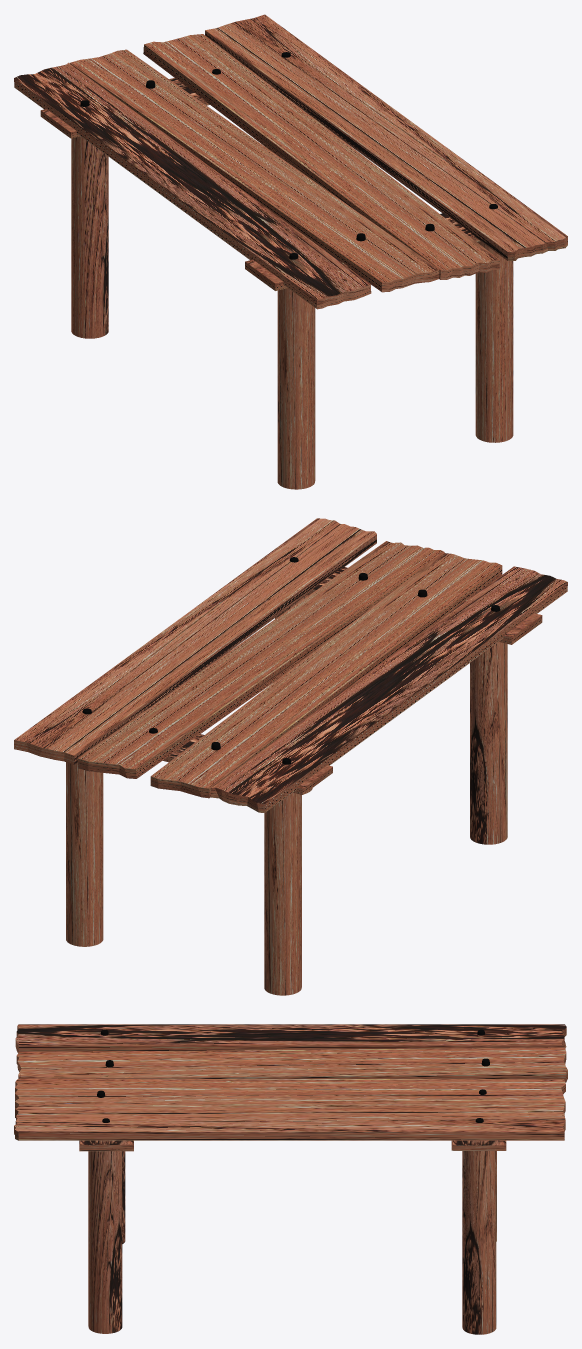
Rendered from Table.fbx.
The picture shows the model from 3 angles, top to bottom: view 1: azimuth 30°, elevation 25°; view 2: azimuth 150°, elevation 25°; view 3: azimuth 270°, elevation 25°; orthographic projection. The views are drawn at different scales.
Visible parts, largest first — view 1: Table Plank, Table Plank 3, Table Plank 2, Table Plank 4, Table Leg 1, Table Leg 2, Table Leg, Commections; view 2: Table Plank, Table Plank 3, Table Plank 2, Table Plank 4, Table Leg 2, Table Leg 1, Table Leg 3, Commections; view 3: Table Plank, Table Plank 4, Table Plank 2, Table Plank 3, Table Leg 3, Table Leg, Commections.
Part boxes in pixels (x1,y1,x2,y2): Table Plank: (205,14,567,260); Table Plank 3: (14,62,371,309); Table Plank 2: (143,34,499,279); Table Plank 4: (69,49,439,292); Table Leg 1: (277,288,315,489); Table Leg 2: (71,136,108,338); Table Leg: (475,241,513,442); Commections: (40,78,480,290); Table Plank: (14,518,376,764); Table Plank 3: (210,566,567,812); Table Plank 2: (77,541,444,778); Table Plank 4: (150,553,502,798); Table Leg 2: (264,793,301,995); Table Leg 1: (470,642,507,844); Table Leg 3: (66,762,103,946); Commections: (163,566,542,794); Table Plank: (14,1107,565,1140); Table Plank 4: (16,1047,567,1082); Table Plank 2: (15,1079,565,1112); Table Plank 3: (15,1024,566,1052); Table Leg 3: (462,1151,496,1334); Table Leg: (88,1151,122,1333); Commections: (79,1140,506,1151).
Size of the model in its own units: 328 by 270 by 652.
